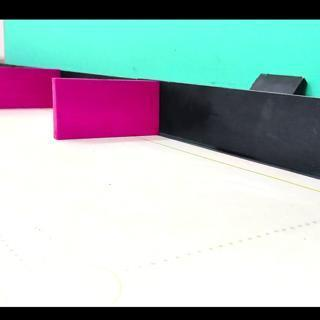xparking: (56, 81, 158, 140), (0, 70, 52, 108)
